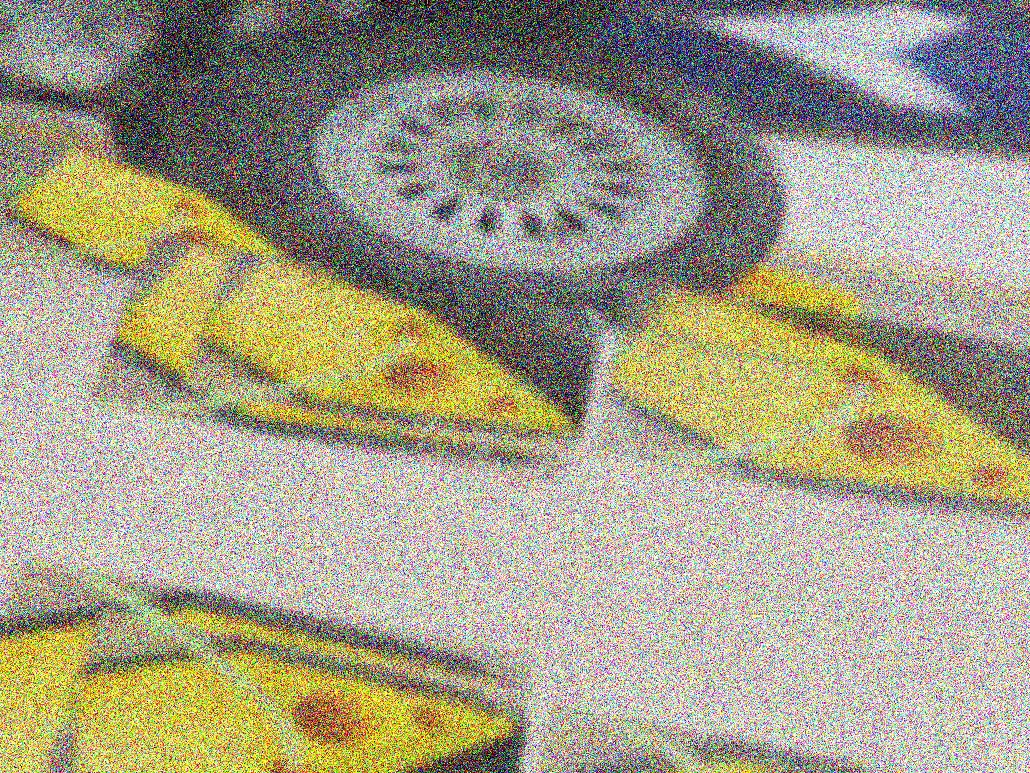chock: (76, 234, 615, 493), (580, 277, 1030, 551), (0, 554, 543, 773), (176, 249, 619, 463), (33, 605, 541, 773), (0, 142, 352, 310), (621, 243, 910, 384), (0, 679, 182, 773)
wheel: (114, 0, 855, 365)
